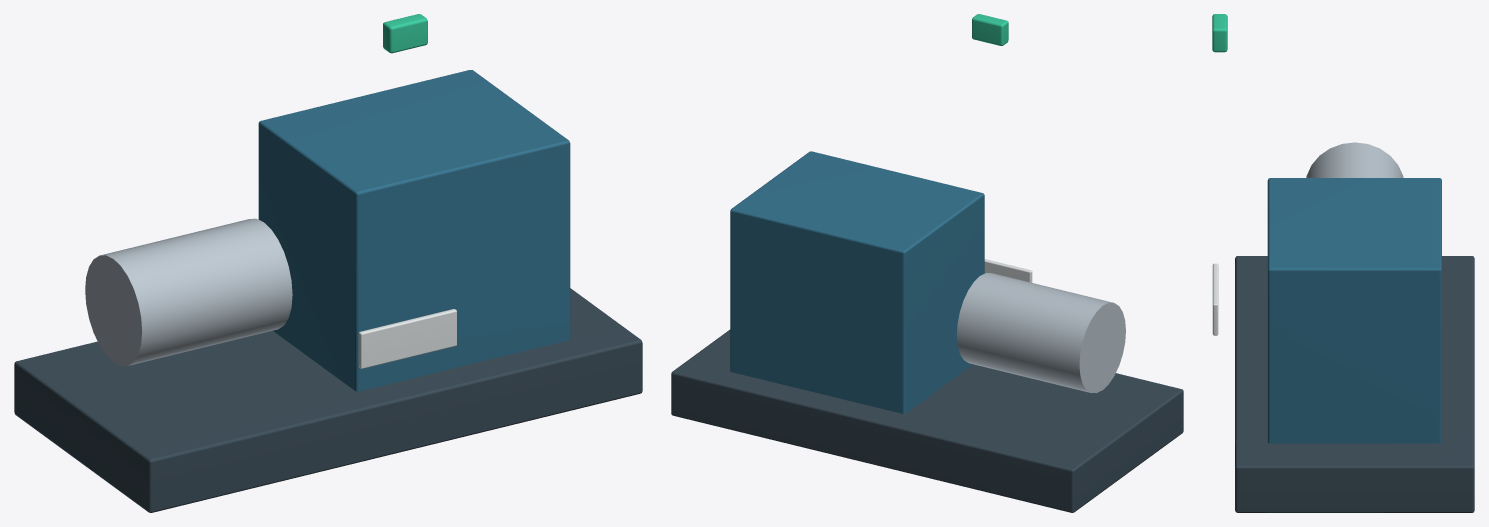
File: Equipment_GR.fbx
The picture shows the model from 3 angles, left to right: view 1: azimuth 30°, elevation 25°; view 2: azimuth 150°, elevation 25°; view 3: azimuth 270°, elevation 25°; orthographic projection. The views are drawn at different scales.
Parts seen in each view (by area): view 1: GearHousing, Base, Motor.001, BlankNameplate_GR, StatusLens_GR; view 2: GearHousing, Base, Motor.001, StatusLens_GR, BlankNameplate_GR; view 3: GearHousing, Base, Motor.001, StatusLens_GR, BlankNameplate_GR.
Boxes of the visible parts, x1,y1,x2,y2 form: GearHousing: (258, 70, 570, 391); Base: (14, 288, 642, 512); Motor.001: (85, 218, 292, 365); BlankNameplate_GR: (358, 309, 456, 368); StatusLens_GR: (383, 14, 427, 53); GearHousing: (730, 151, 984, 413); Base: (671, 329, 1183, 512); Motor.001: (957, 273, 1125, 393); StatusLens_GR: (972, 14, 1008, 45); BlankNameplate_GR: (984, 259, 1032, 282); GearHousing: (1267, 178, 1441, 443); Base: (1235, 256, 1474, 512); Motor.001: (1306, 142, 1403, 177); StatusLens_GR: (1212, 14, 1227, 52); BlankNameplate_GR: (1212, 263, 1218, 335).
Bounding box in the file's own units: 2.3 × 1.96 × 1.2.
